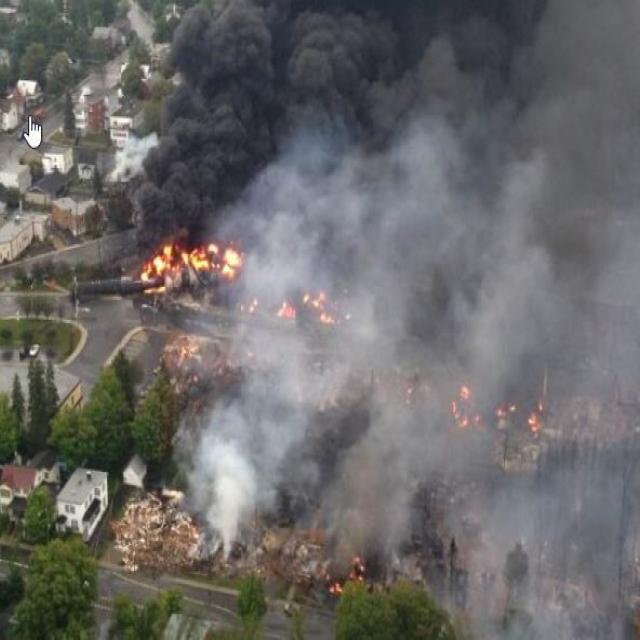Fire: (145, 235, 251, 292), (273, 284, 348, 340), (327, 557, 371, 602), (453, 385, 479, 434), (526, 405, 551, 443)
Smoke: (216, 218, 630, 578), (147, 9, 618, 227)
